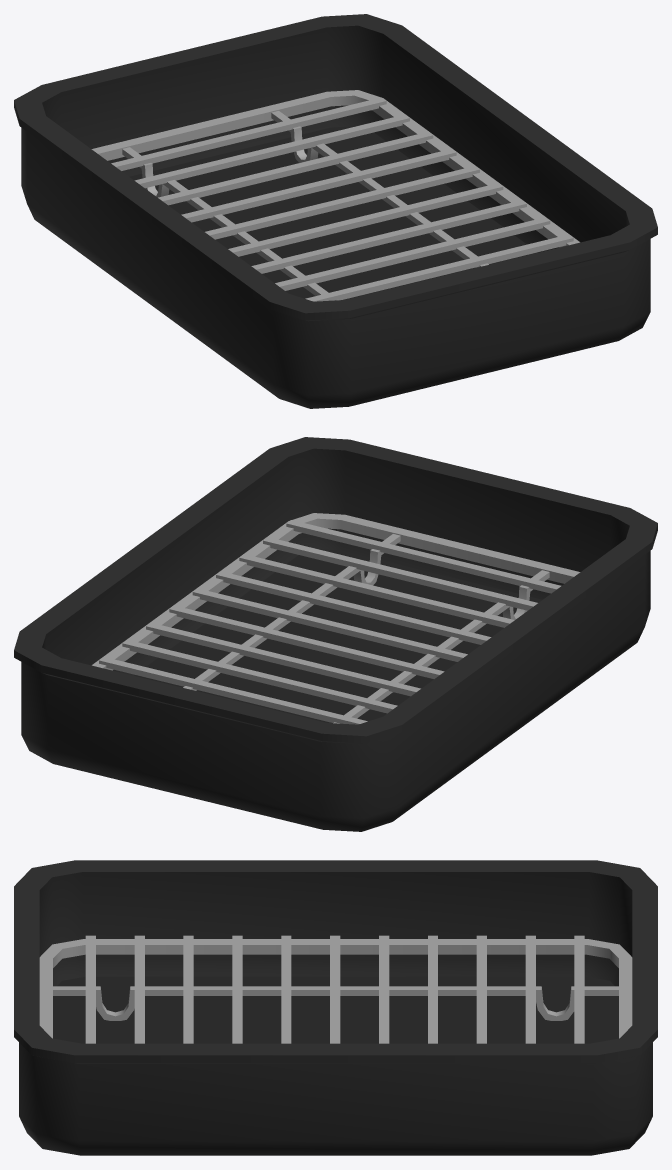
The model's file is RoasterPan_01.fbx.
The picture shows the model from 3 angles, top to bottom: view 1: azimuth 30°, elevation 25°; view 2: azimuth 150°, elevation 25°; view 3: azimuth 270°, elevation 25°; orthographic projection. The views are drawn at different scales.
Visible parts, largest first — view 1: RoasterPan_01, RoasterPan_Grid_01; view 2: RoasterPan_01, RoasterPan_Grid_01; view 3: RoasterPan_01, RoasterPan_Grid_01.
Part boxes in pixels (x1,y1,x2,y2): RoasterPan_01: (14,14,657,408); RoasterPan_Grid_01: (91,90,579,301); RoasterPan_01: (14,437,657,831); RoasterPan_Grid_01: (92,513,580,724); RoasterPan_01: (14,860,657,1155); RoasterPan_Grid_01: (39,935,632,1043).
Size of the model in its own units: 0.3871 by 0.1053 by 0.5404.
